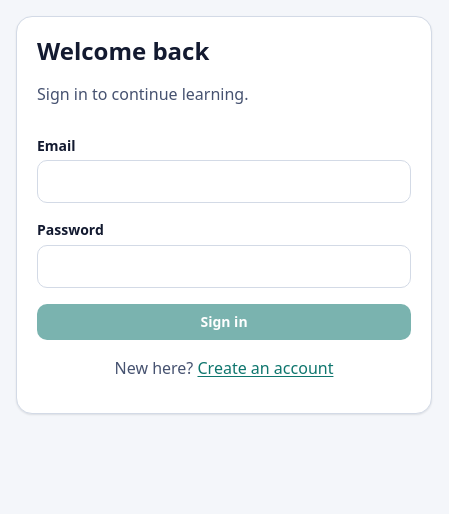
Login › shows the server's error and keeps the user on the form
The width and height of the screenshot is (449, 514).
Type "sam@x.io" into the field labelled "Email".
click(224, 182); type("sam@x.io")  # box [37,160,411,203]
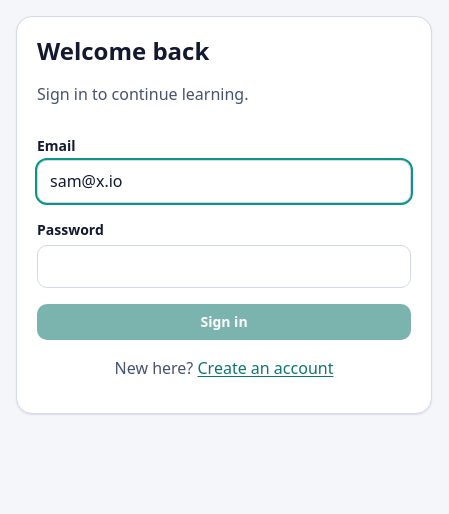
Type "wrong-password" into the password field labelled "Password".
click(224, 266); type("wrong-password")  # box [37,245,411,288]
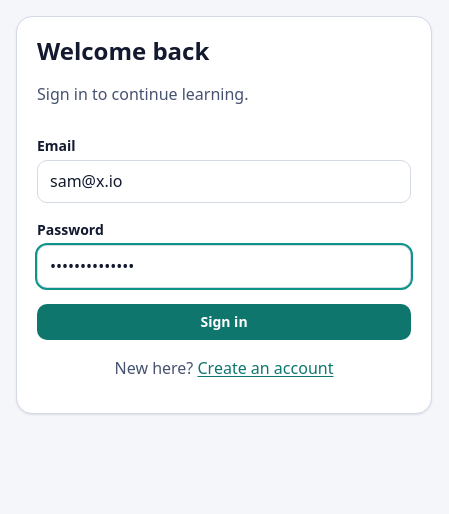
Click the button "Sign in".
click(224, 322)  # box [37,304,411,340]
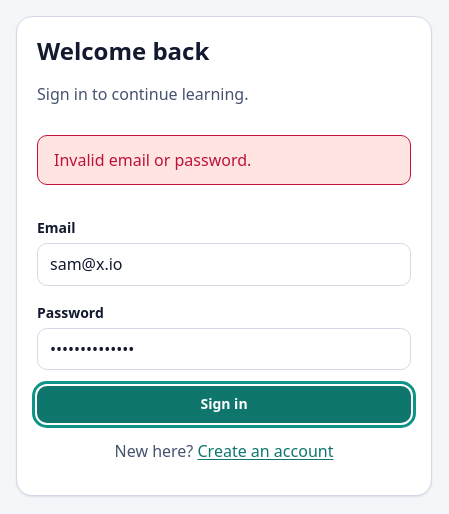
Expected: the message reads "Invalid email or password.", [54,149,251,171]
